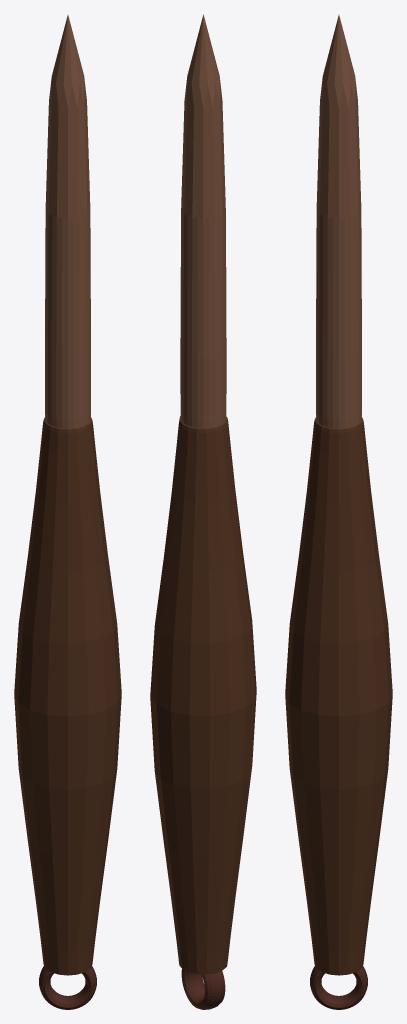
Rendered from Wand 101.glb.
The picture shows the model from 3 angles, left to right: view 1: azimuth 90°, elevation 25°; view 2: azimuth 210°, elevation 25°; view 3: azimuth 270°, elevation 25°; orthographic projection.
Parts seen in each view (by area): view 1: GeneratedWand; view 2: GeneratedWand; view 3: GeneratedWand.
Boxes of the visible parts, x1=… form: GeneratedWand: x1=14, y1=15, x2=121, y2=1009; GeneratedWand: x1=150, y1=14, x2=256, y2=1009; GeneratedWand: x1=285, y1=15, x2=392, y2=1009.
Size of the model in its own units: 0.0499 by 0.508 by 0.0499.
